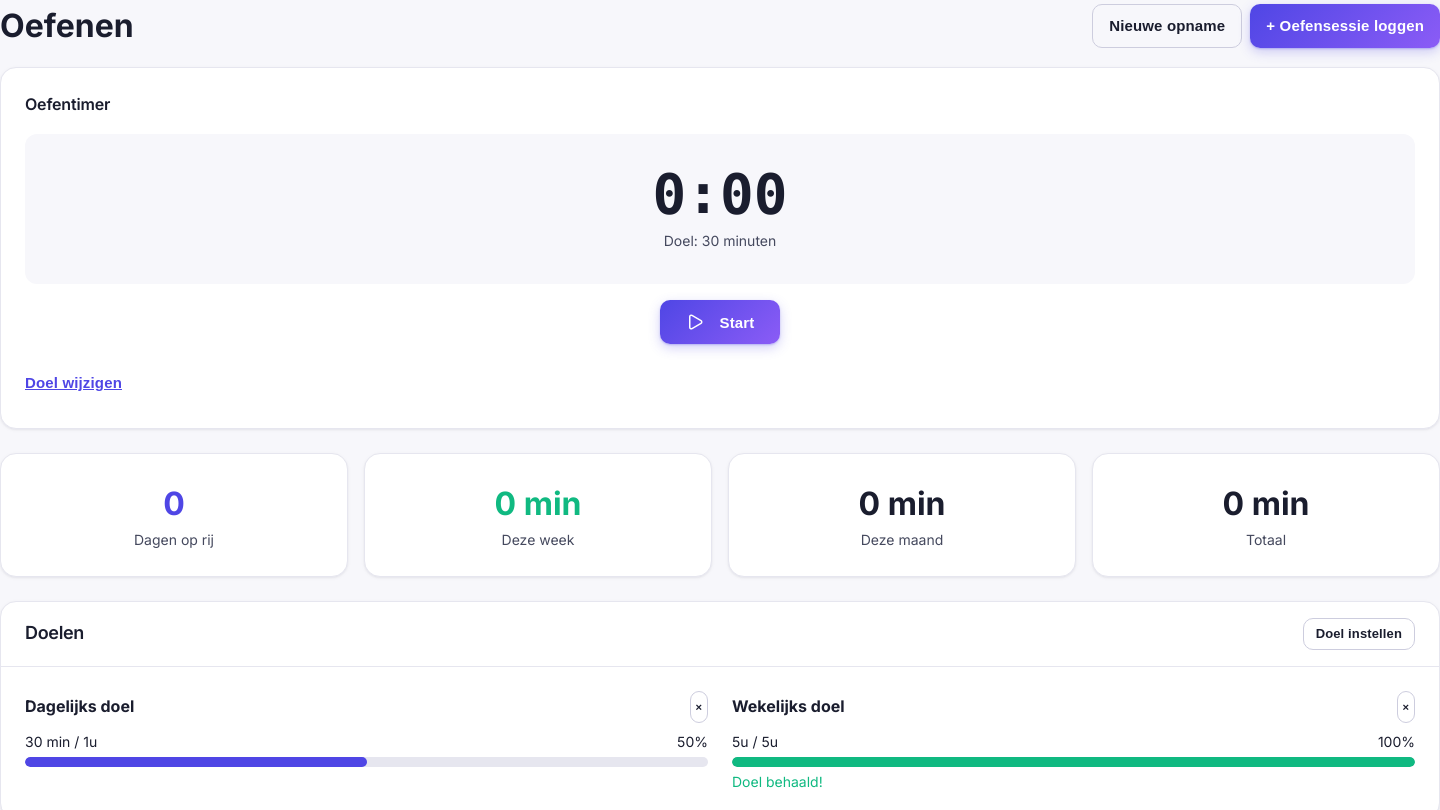
Test: Practice: doelen › verwijdert niets als de bevestiging afgebroken wordt
What coordinates should you click on to do the following:
click the button "×" in the row of "Wekelijks doel"
I would click on:
 (1406, 707)
Its box is [1397,691,1415,723].
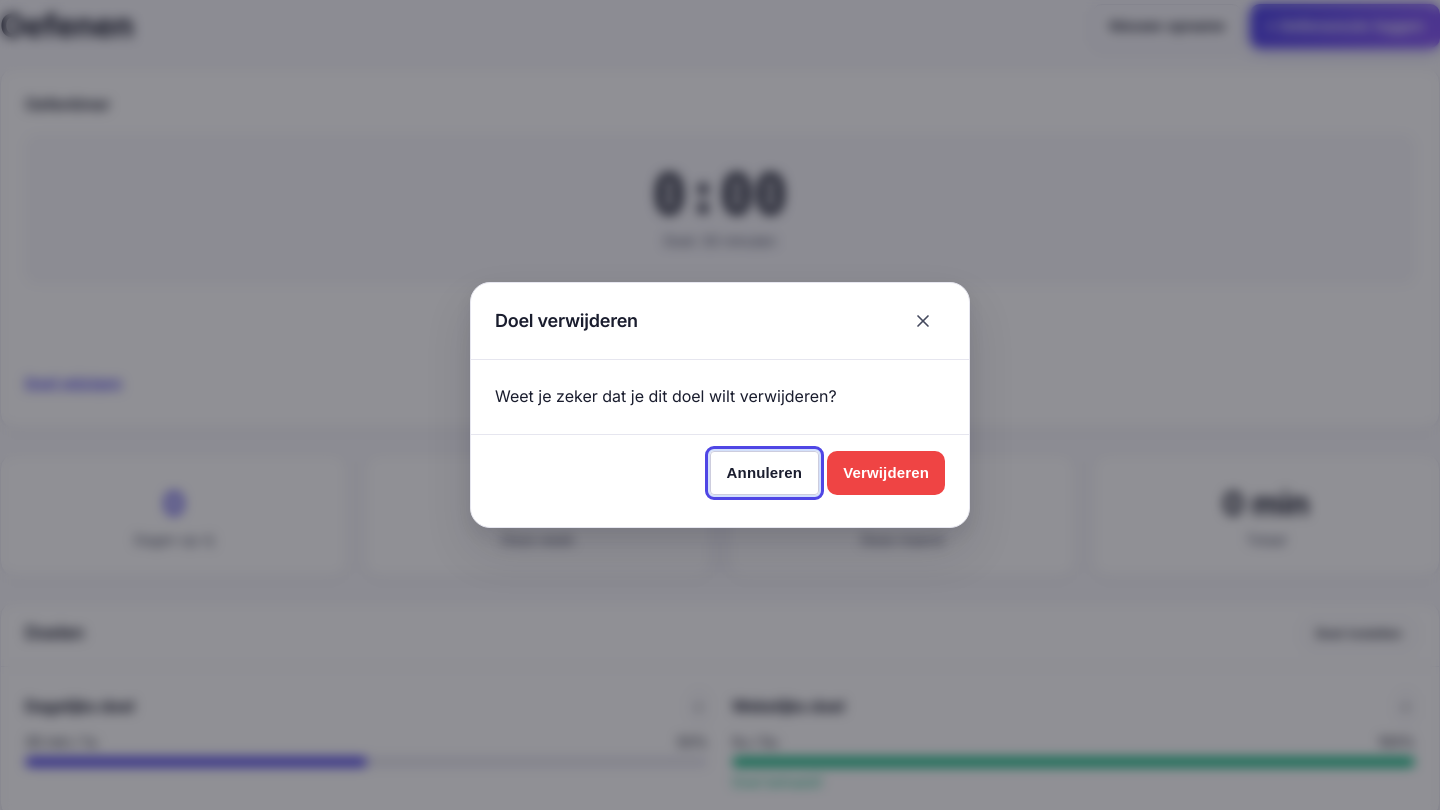
What coordinates should you click on to do the following:
click the button "Annuleren"
I would click on:
 (764, 473)
Its box is [710,451,819,495].
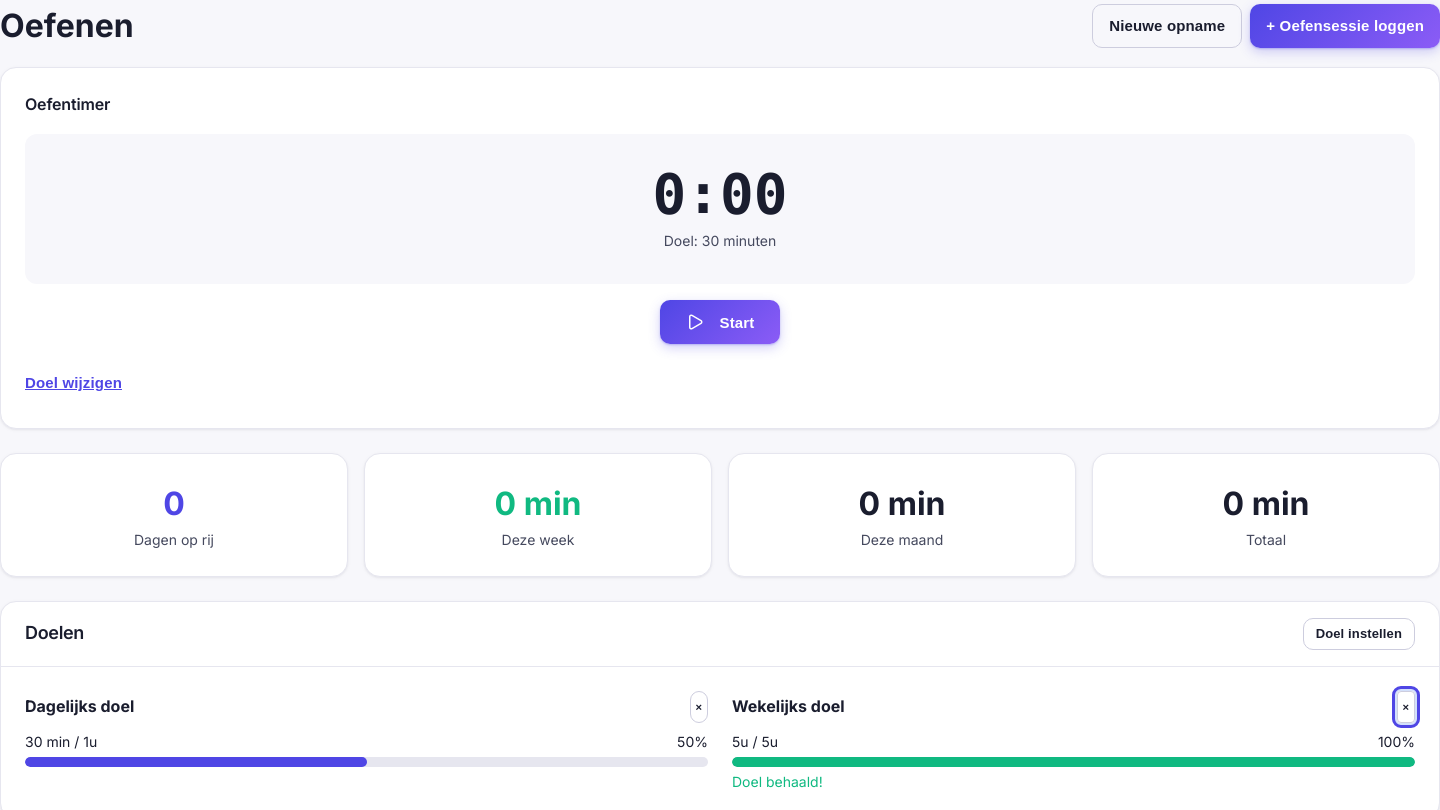
Expected: the dialog is gone
